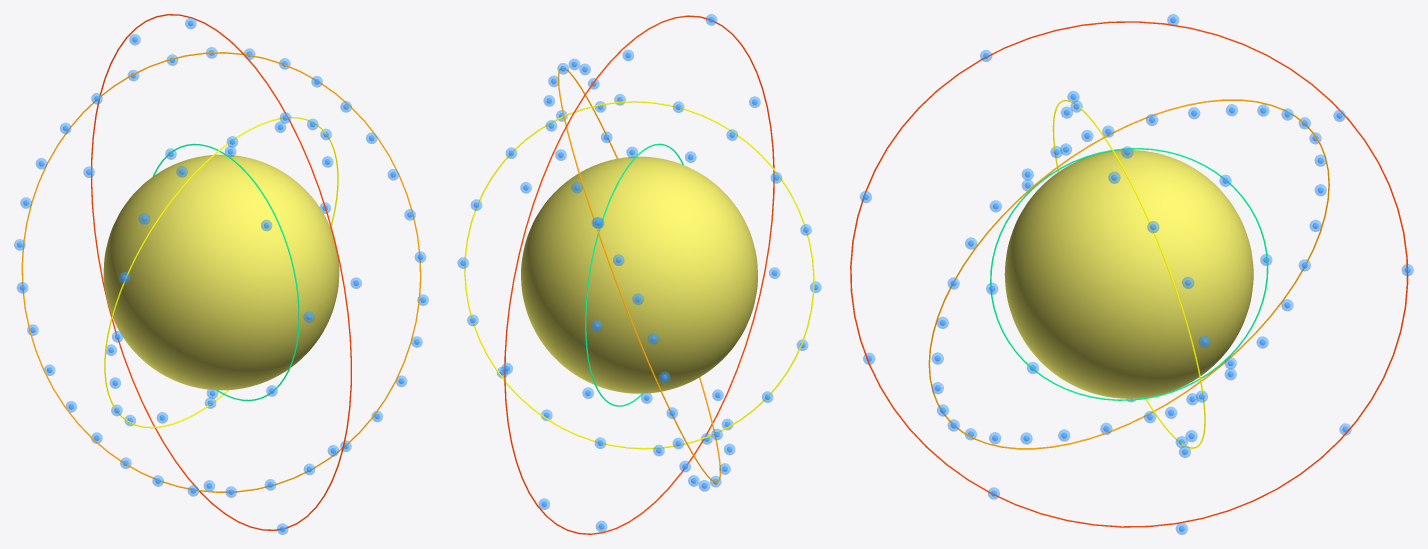
3 renders of one model, left to right at view 1: azimuth 30°, elevation 25°; view 2: azimuth 150°, elevation 25°; view 3: azimuth 270°, elevation 25°, orthographic. The views are drawn at different scales.
Visible parts, largest first — view 1: Tm, object 61, object 126, object 24, object 7; view 2: Tm, object 126, object 24, object 61, object 7; view 3: Tm, object 126, object 61, object 7, object 24.
Part boxes in pixels (x1,y1,x2,y2): Tm: (103, 154, 339, 390); object 61: (21, 52, 421, 492); object 126: (91, 14, 351, 530); object 24: (104, 116, 338, 428); object 7: (152, 143, 299, 401); Tm: (521, 156, 757, 393); object 126: (504, 15, 774, 534); object 24: (464, 101, 814, 449); object 61: (558, 68, 720, 482); object 7: (585, 143, 683, 406); Tm: (1004, 150, 1253, 398); object 126: (850, 21, 1408, 527); object 61: (928, 99, 1329, 449); object 7: (990, 148, 1268, 400); object 24: (1052, 100, 1205, 448).
Bounding box in the file's own units: 4.56 × 7.25 × 7.29.
